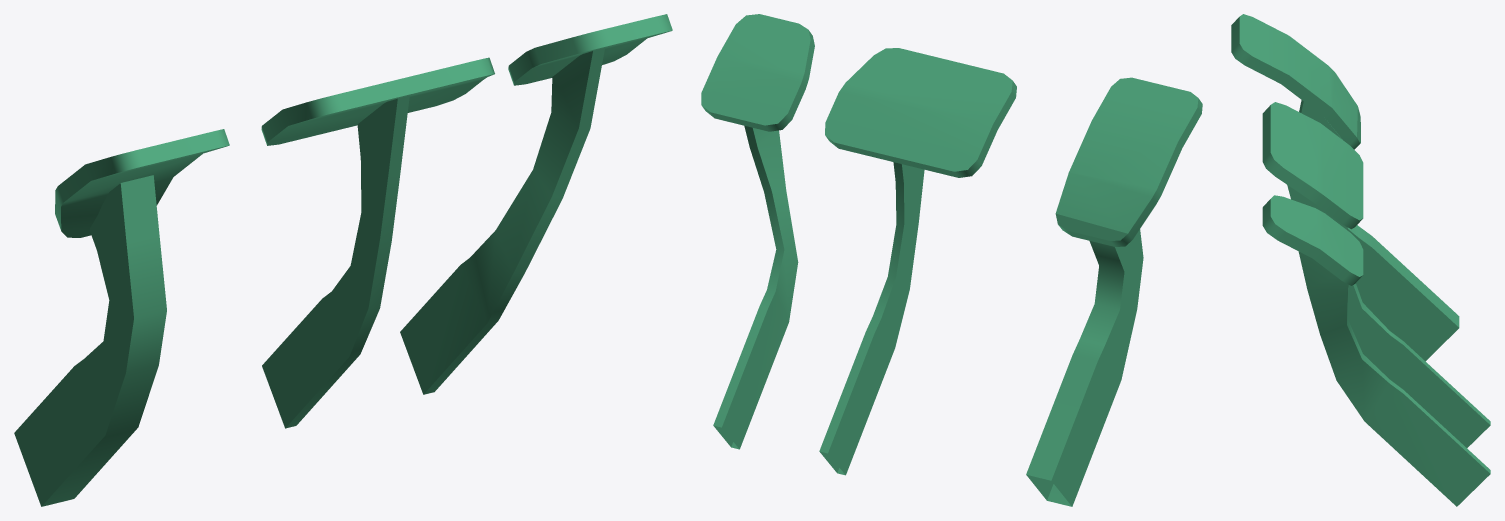
The model's file is CarlaVR_vehicles_pedals.fbx.
3 renders of one model, left to right at view 1: azimuth 30°, elevation 25°; view 2: azimuth 150°, elevation 25°; view 3: azimuth 270°, elevation 25°, orthographic. The views are drawn at different scales.
Visible parts, largest first — view 1: vivace_pedal_gas, vivace_pedal_brake_A, vivace_pedal_clutch; view 2: vivace_pedal_gas, vivace_pedal_brake_A, vivace_pedal_clutch; view 3: vivace_pedal_clutch, vivace_pedal_brake_A, vivace_pedal_gas.
Part boxes in pixels (x1,y1,x2,y2): vivace_pedal_gas: [14, 129, 229, 506]; vivace_pedal_brake_A: [261, 57, 494, 428]; vivace_pedal_clutch: [400, 14, 672, 394]; vivace_pedal_gas: [1026, 77, 1202, 506]; vivace_pedal_brake_A: [819, 48, 1016, 475]; vivace_pedal_clutch: [701, 14, 814, 449]; vivace_pedal_clutch: [1262, 195, 1490, 506]; vivace_pedal_brake_A: [1262, 102, 1490, 447]; vivace_pedal_gas: [1231, 14, 1459, 361].
Bounding box in the file's own units: 25.71 × 19.62 × 13.85.
